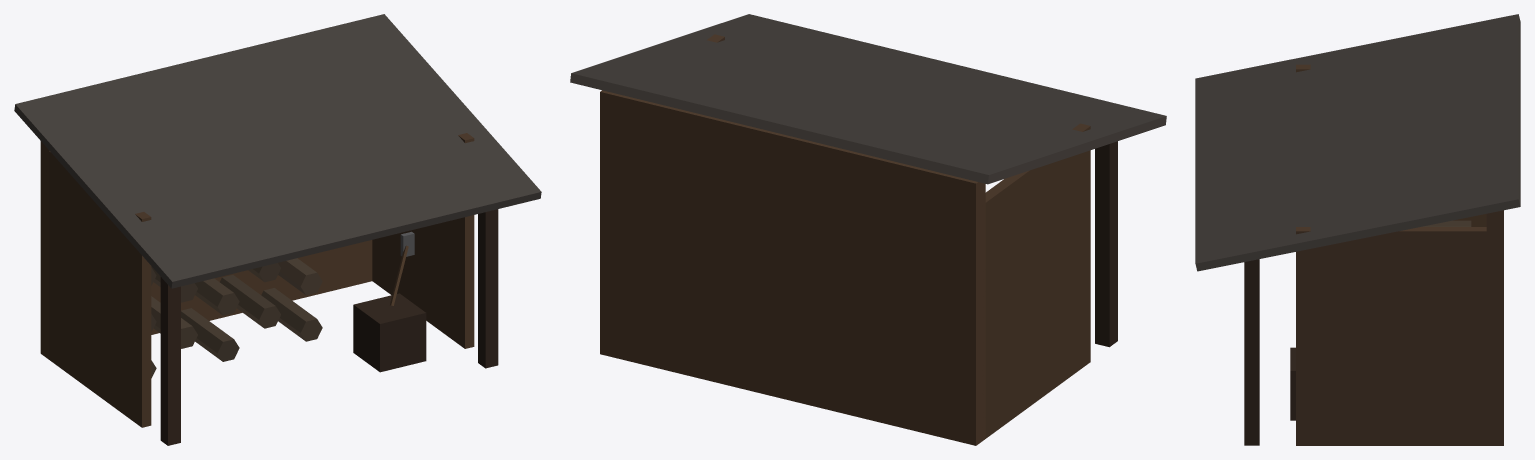
File: walk_any_shed.glb
3 views of the same model, side by side, from view 1: azimuth 30°, elevation 25°; view 2: azimuth 150°, elevation 25°; view 3: azimuth 270°, elevation 25° (orthographic). The views are drawn at different scales.
Visible parts, largest first — view 1: walk_any_shed_roof, walk_any_shed; view 2: walk_any_shed, walk_any_shed_roof; view 3: walk_any_shed_roof, walk_any_shed.
Boxes of the visible parts, <box> form: walk_any_shed_roof: <box>14,14,541,288</box>; walk_any_shed: <box>40,133,498,445</box>; walk_any_shed: <box>600,34,1117,445</box>; walk_any_shed_roof: <box>570,14,1166,184</box>; walk_any_shed_roof: <box>1195,14,1520,271</box>; walk_any_shed: <box>1244,64,1503,445</box>.
Size of what is drawn, in the model's own units: 4 by 2.58 by 2.97.
2 materials, 2 textured.
